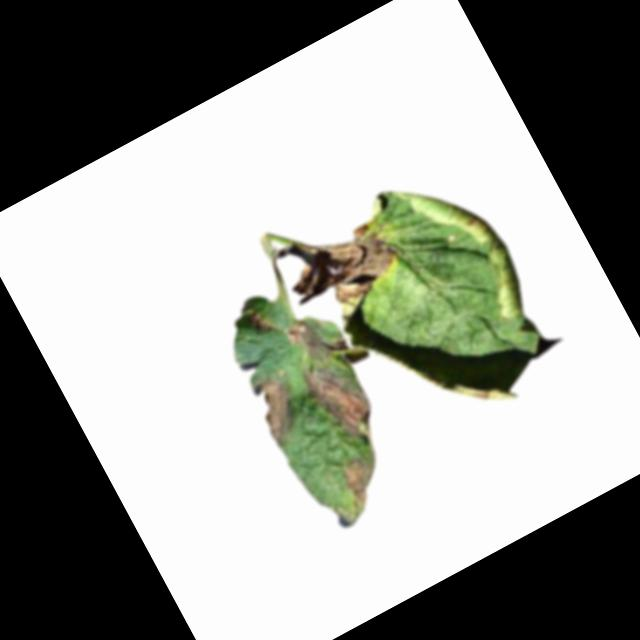Late_blight: (282, 217, 412, 327), (298, 350, 387, 456), (245, 369, 312, 448), (282, 302, 350, 372), (338, 451, 394, 509), (244, 301, 283, 341)
